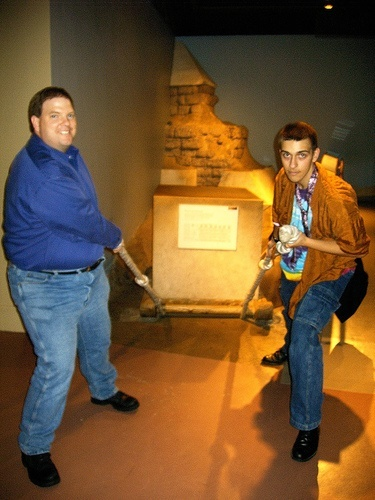head: (29, 87, 78, 150), (269, 119, 318, 182)
person: (0, 86, 144, 481), (256, 127, 364, 458)
